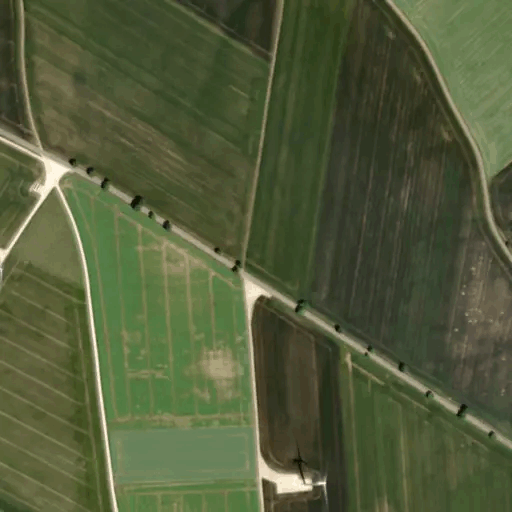wt: (292, 442, 332, 500)
